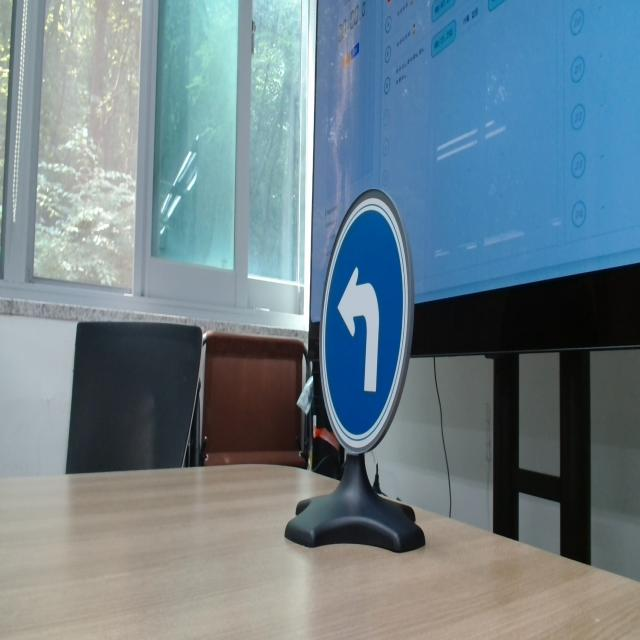left_direction: (308, 169, 436, 478)
